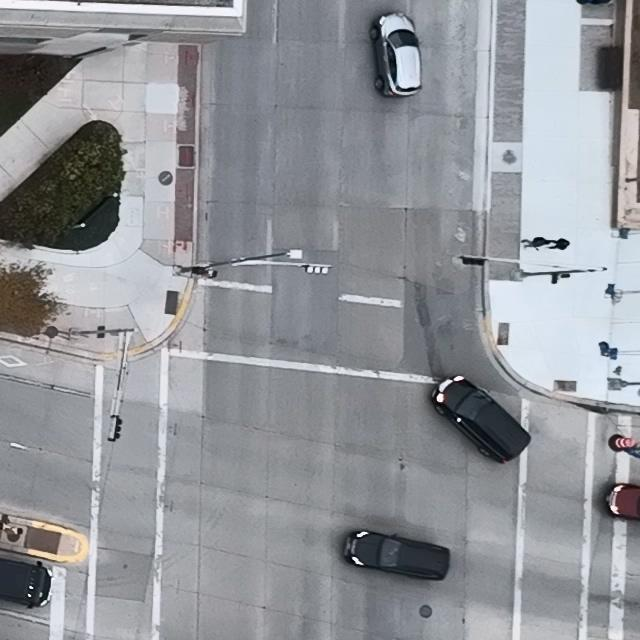car: (432, 376, 532, 463), (344, 529, 451, 582), (370, 13, 422, 98), (0, 557, 52, 610), (604, 484, 640, 518)
